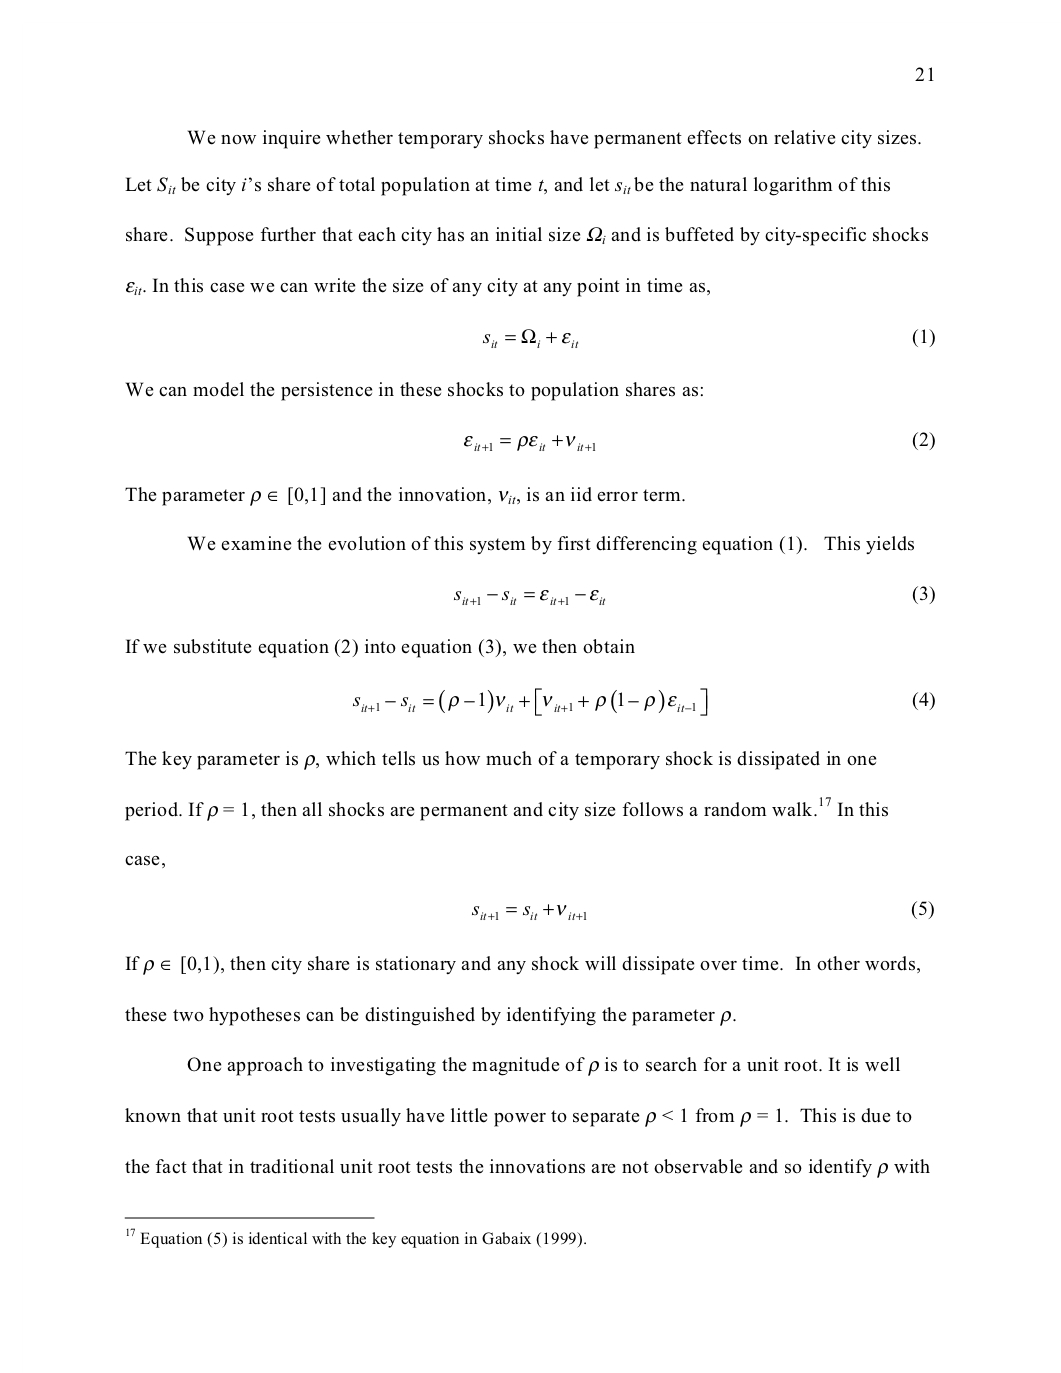formula: (353, 686, 934, 715), (454, 585, 934, 605), (464, 431, 934, 451), (473, 900, 933, 921), (483, 328, 934, 348)
